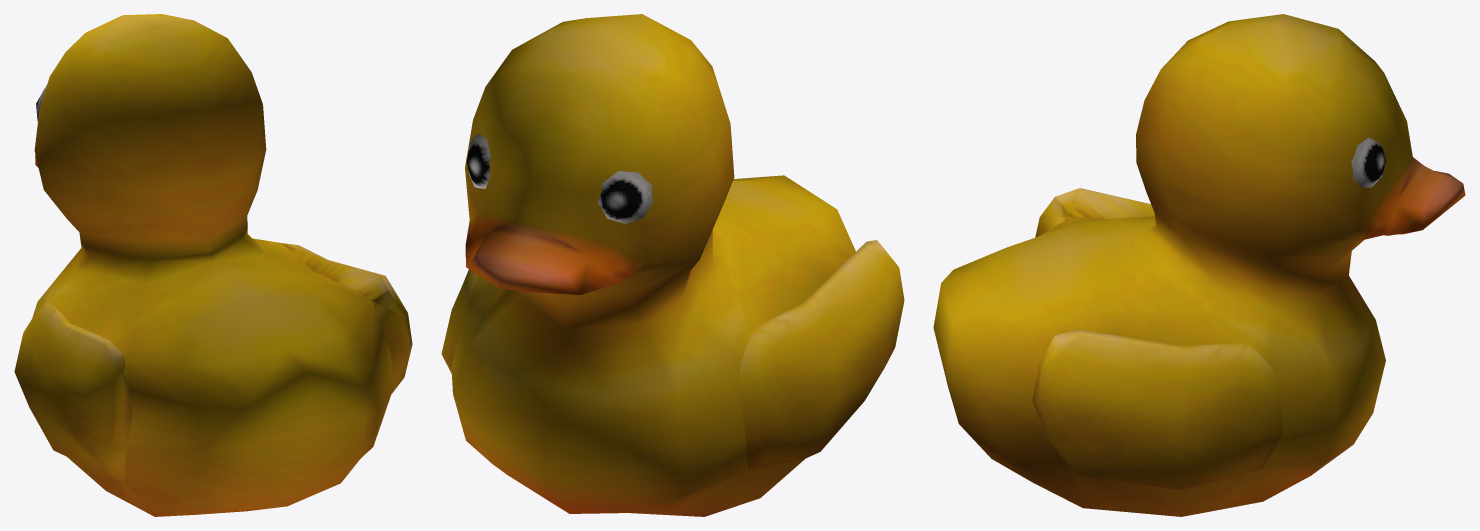
Rendered from k2.ico.obj.
The picture shows the model from 3 angles, left to right: view 1: azimuth 30°, elevation 25°; view 2: azimuth 150°, elevation 25°; view 3: azimuth 270°, elevation 25°; orthographic projection. The views are drawn at different scales.
Bounding box in the file's own units: 2.23 × 2.91 × 3.01.
Materials: 1 (1 with a texture image).
